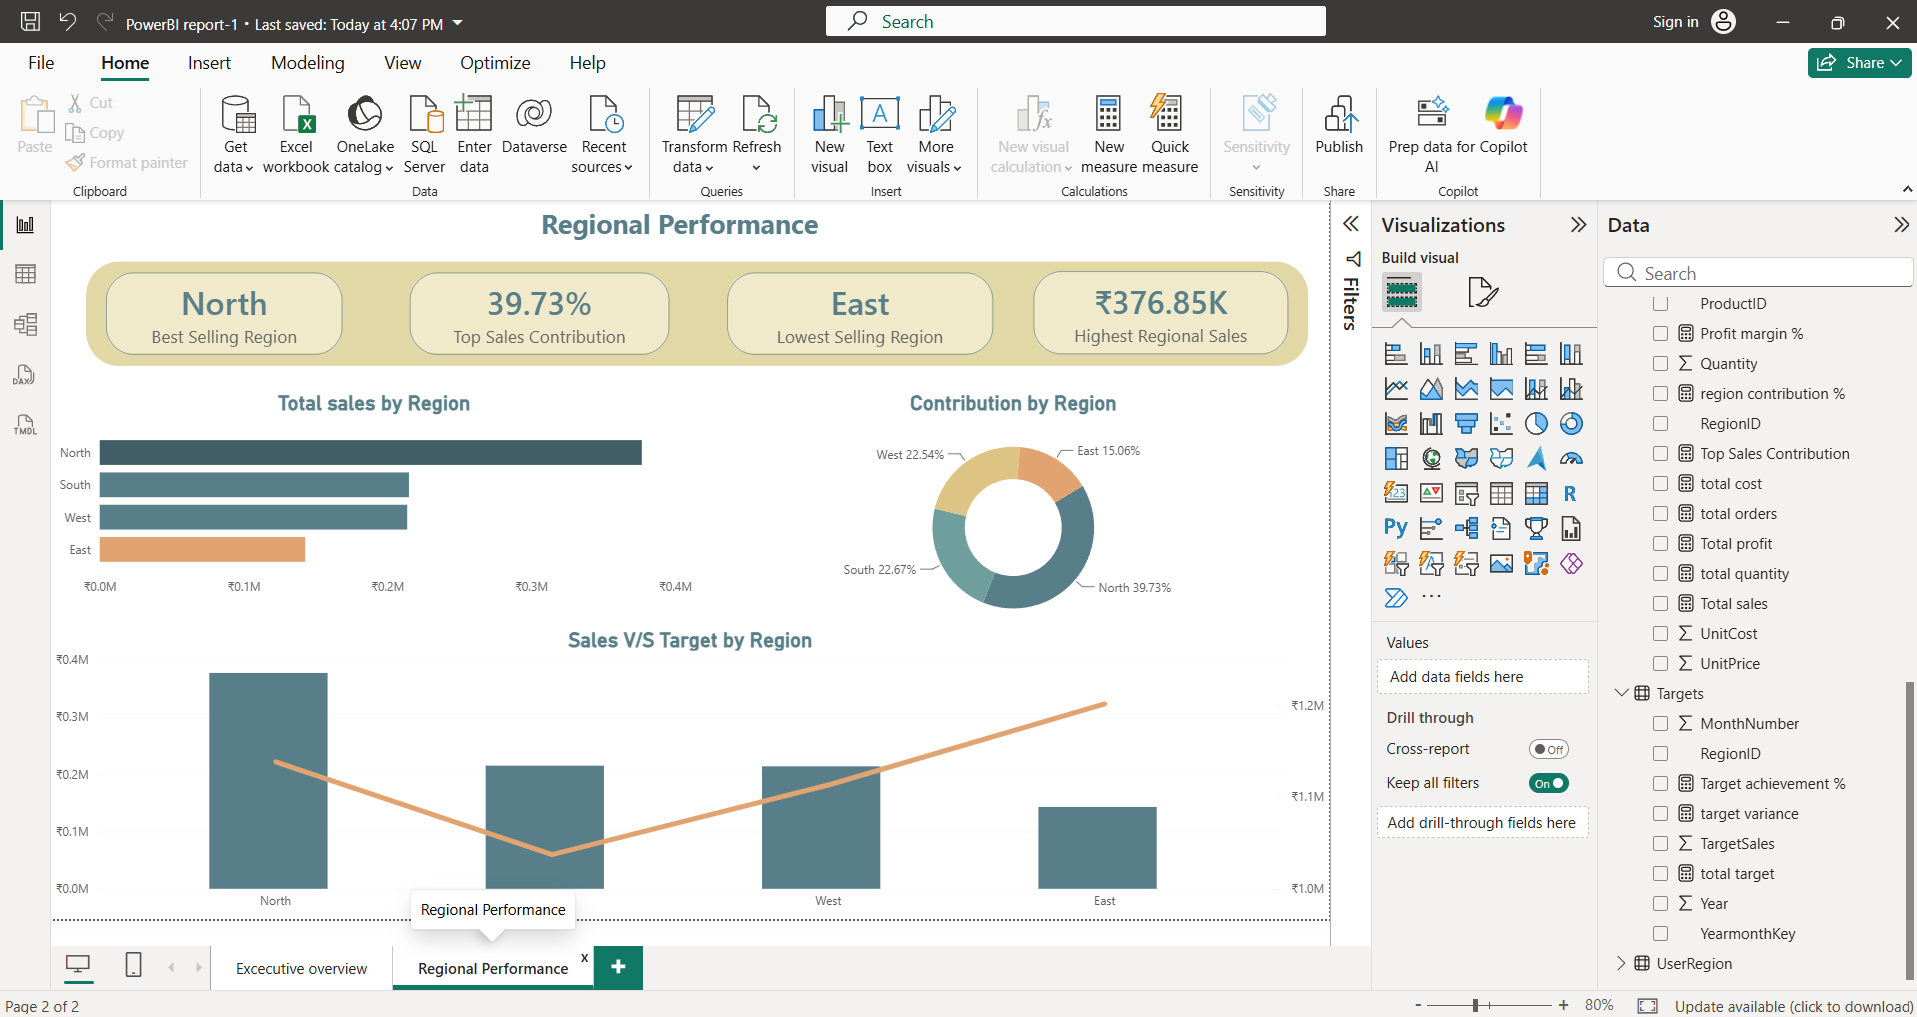

The dashboard page shown, as its layout file describes it:
{"tool":"powerbi","page":{"name":"Regional Performance","canvas":[1280,720],"ordinal":2},"visuals":[{"type":"textbox","box":[485.5,0,308.2,67.3],"z":0},{"type":"shape","box":[35.7,51.4,1224.3,124.3],"z":1000},{"type":"cardVisual","fields":{"Data":["Sales.Best selling Region"]},"box":[35,52.6,277.8,122.6],"z":2000},{"type":"cardVisual","fields":{"Data":["Sales.Lowest Selling Region"]},"box":[657,52.6,306.6,122.6],"z":3000},{"type":"cardVisual","fields":{"Data":["Sales.Best contribution %"]},"box":[339.1,52.6,300.4,122.6],"z":4000},{"type":"cardVisual","fields":{"Data":["Sales.Highest Region Sale"]},"box":[963.6,51.3,295.3,123.9],"z":5000},{"type":"barChart","title":"Total sales by Region","fields":{"Category":["Regions.Region"],"Y":["Sales.total sales"]},"box":[0,191.5,647,214],"z":6000},{"type":"donutChart","title":"Contribution  by Region","fields":{"Category":["Regions.Region"],"Y":["Sales.total sales"]},"box":[647,191.5,633.2,244],"z":7000},{"type":"lineClusteredColumnComboChart","title":"Sales V/S Target by Region","fields":{"Category":["Regions.Region"],"Y":["Sales.total sales"],"Y2":["Targets.total target"]},"box":[0,428,1280.3,291.6],"z":8000},{"type":"actionButton","box":[0,0,126,47.7],"z":12000}]}

Visuals, with their boxes on the page's 1280x720 design canvas (x1, y1, x2, y2). These are canvas units, not pixel positions in the 1917x1017 screenshot, which may show the page scaled, cropped or inside an application window:
textbox: {"left": 486, "top": 0, "right": 794, "bottom": 67}
shape: {"left": 36, "top": 51, "right": 1260, "bottom": 176}
cardVisual - Sales.Best selling Region: {"left": 35, "top": 53, "right": 313, "bottom": 175}
cardVisual - Sales.Lowest Selling Region: {"left": 657, "top": 53, "right": 964, "bottom": 175}
cardVisual - Sales.Best contribution %: {"left": 339, "top": 53, "right": 640, "bottom": 175}
cardVisual - Sales.Highest Region Sale: {"left": 964, "top": 51, "right": 1259, "bottom": 175}
"Total sales by Region" barChart: {"left": 0, "top": 192, "right": 647, "bottom": 406}
"Contribution  by Region" donutChart: {"left": 647, "top": 192, "right": 1280, "bottom": 436}
"Sales V/S Target by Region" lineClusteredColumnComboChart: {"left": 0, "top": 428, "right": 1280, "bottom": 720}
actionButton: {"left": 0, "top": 0, "right": 126, "bottom": 48}
